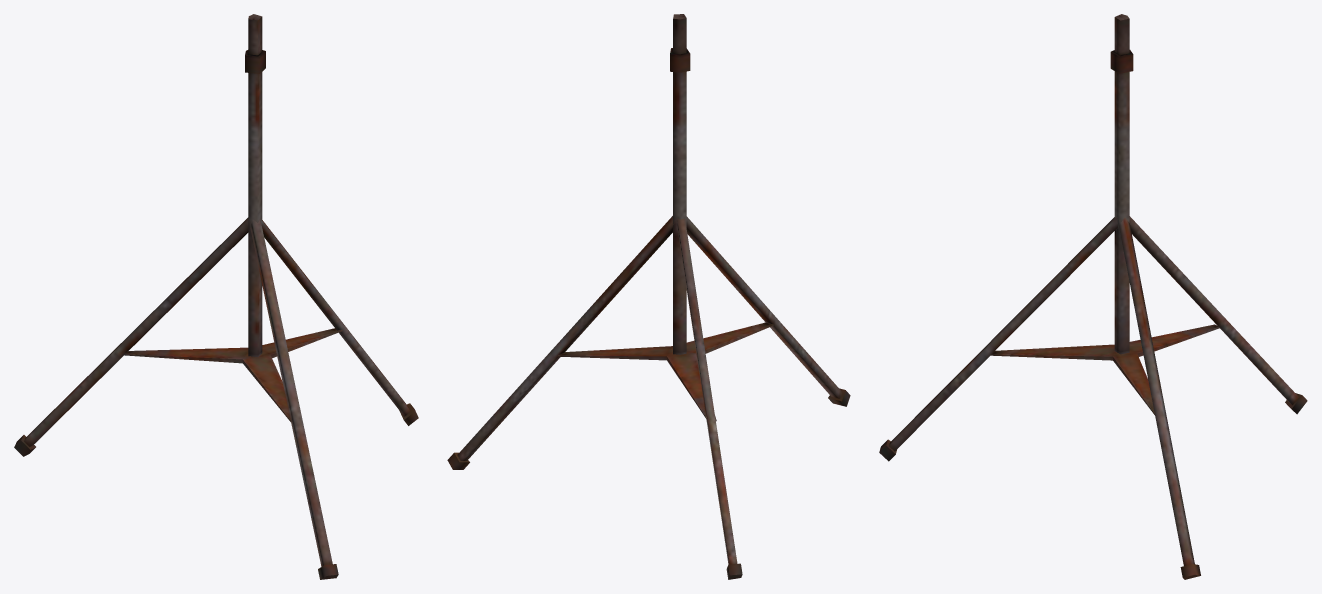
File: StandShort.FBX
The picture shows the model from 3 angles, left to right: view 1: azimuth 30°, elevation 25°; view 2: azimuth 150°, elevation 25°; view 3: azimuth 270°, elevation 25°; orthographic projection.
Parts seen in each view (by area): view 1: StandShort; view 2: StandShort; view 3: StandShort.
Part boxes in pixels (x1=…): StandShort: x1=14, y1=14, x2=418, y2=579; StandShort: x1=447, y1=14, x2=850, y2=579; StandShort: x1=879, y1=14, x2=1307, y2=579.
Bounding box in the file's own units: 85.27 × 112 × 91.61.
